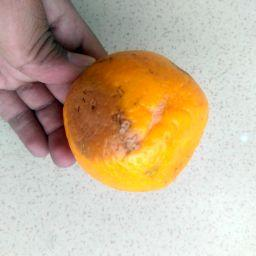Unripe: (63, 52, 210, 193)
